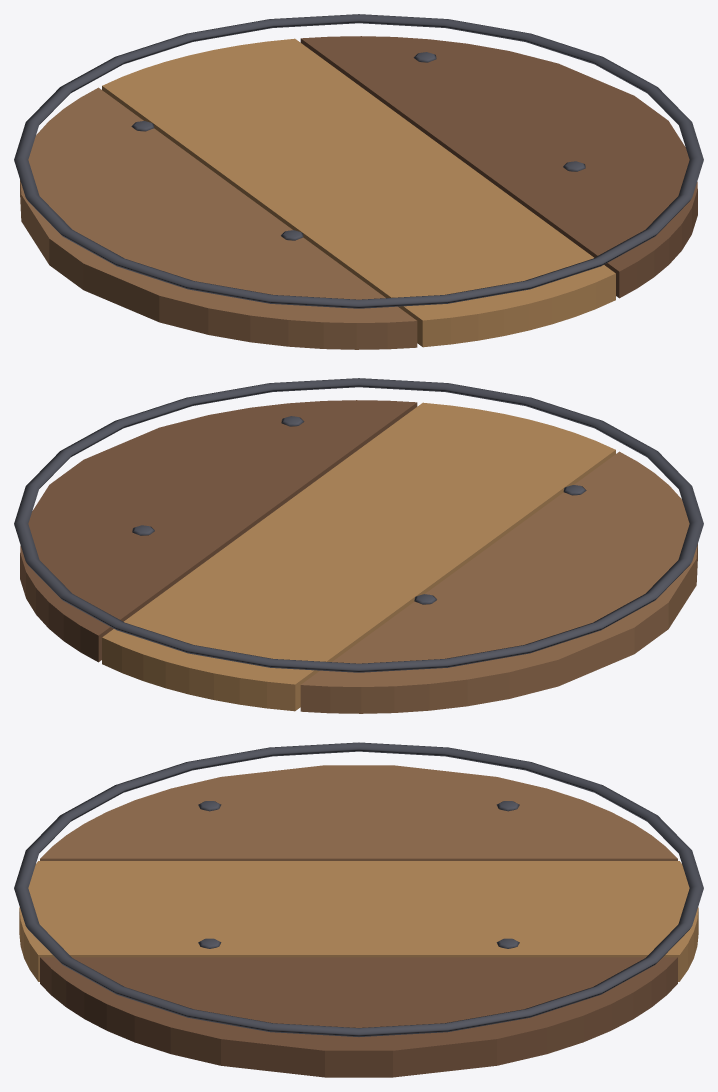
Rendered from keg_lid.glb.
The picture shows the model from 3 angles, top to bottom: view 1: azimuth 30°, elevation 25°; view 2: azimuth 150°, elevation 25°; view 3: azimuth 270°, elevation 25°; orthographic projection.
Visible parts, largest first — view 1: keg_lid; view 2: keg_lid; view 3: keg_lid.
Part boxes in pixels (box(x1,y1,x2,y2)): keg_lid: box(14, 14, 703, 349); keg_lid: box(14, 378, 703, 713); keg_lid: box(14, 742, 703, 1077).
Size of the model in its own units: 0.4 by 0.04 by 0.4.
